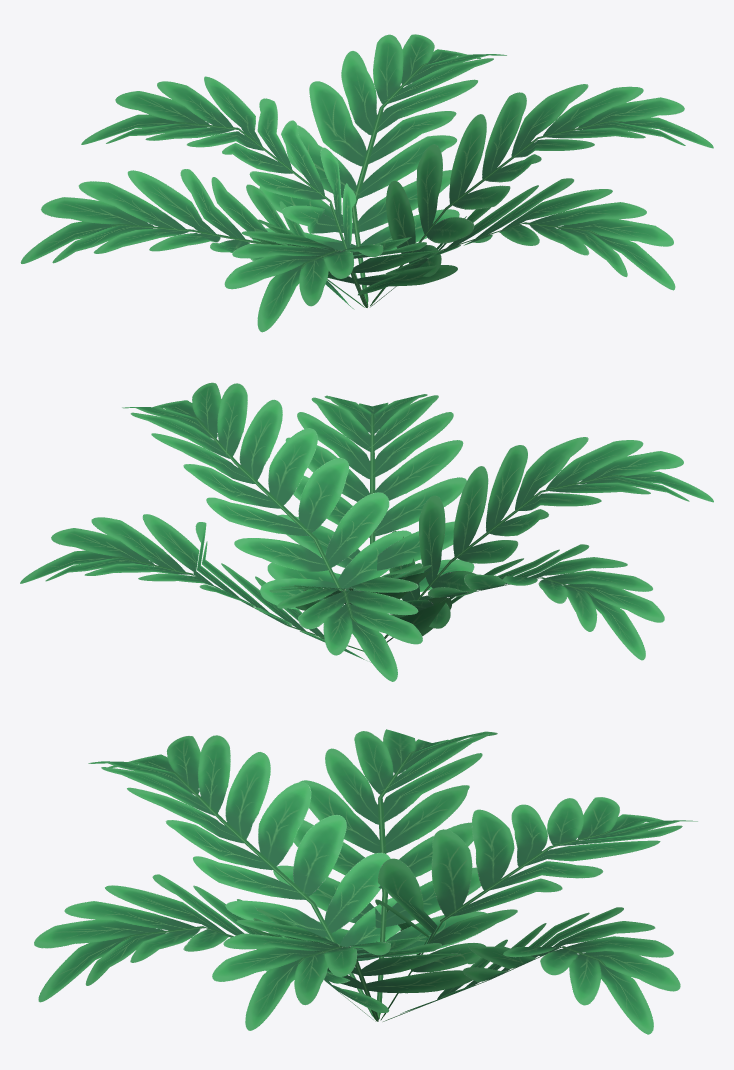
File: folliage.fbx
3 views of the same model, one above another, from view 1: azimuth 30°, elevation 25°; view 2: azimuth 150°, elevation 25°; view 3: azimuth 270°, elevation 25° (orthographic). The views are drawn at different scales.
Visible parts, largest first — view 1: pPlane7; view 2: pPlane7; view 3: pPlane7.
Boxes of the visible parts, <box> form: pPlane7: <box>20,34,713,332</box>; pPlane7: <box>20,382,713,681</box>; pPlane7: <box>34,729,697,1034</box>.
Bounding box in the file's own units: 7.98 × 2.2 × 7.
1 material, 1 textured.
